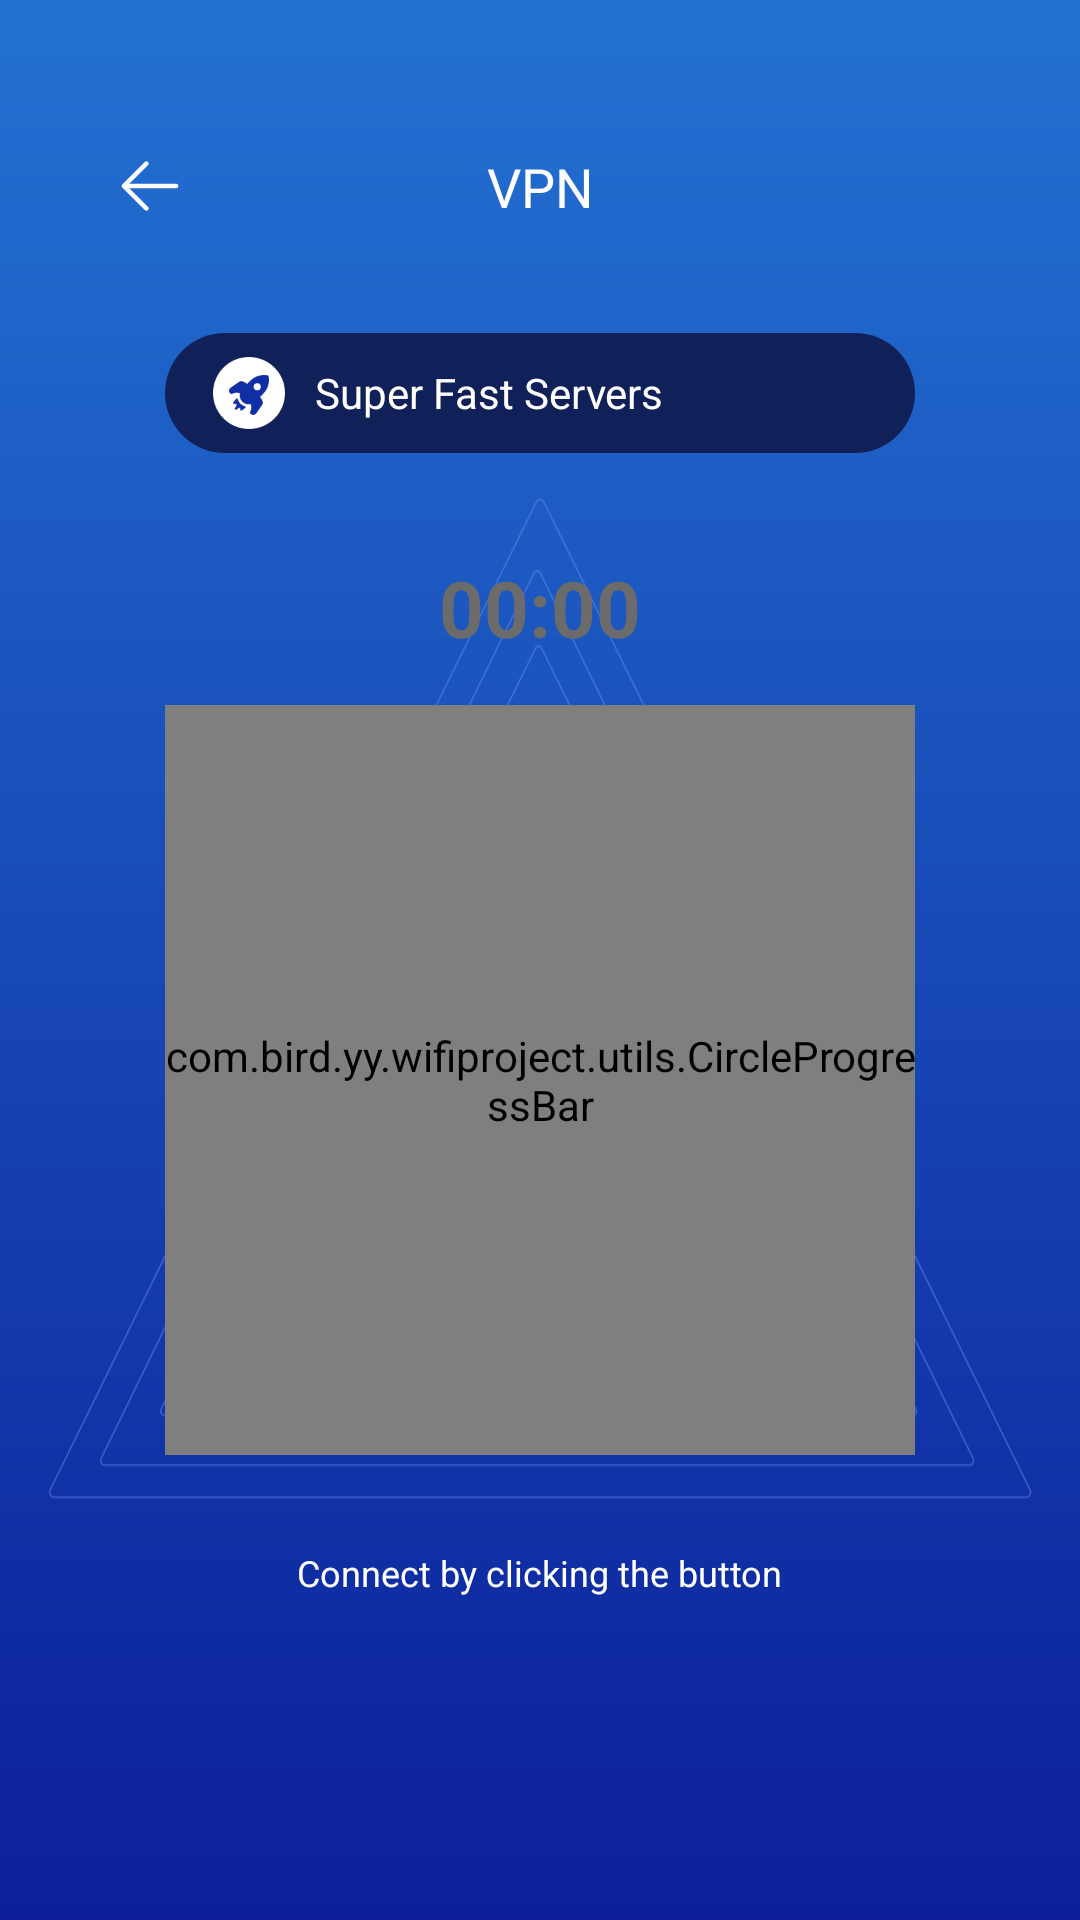

Icon click points for this 1080x1920 phone screenshot, format (x=x, y=y):
back: (x=150, y=186)
